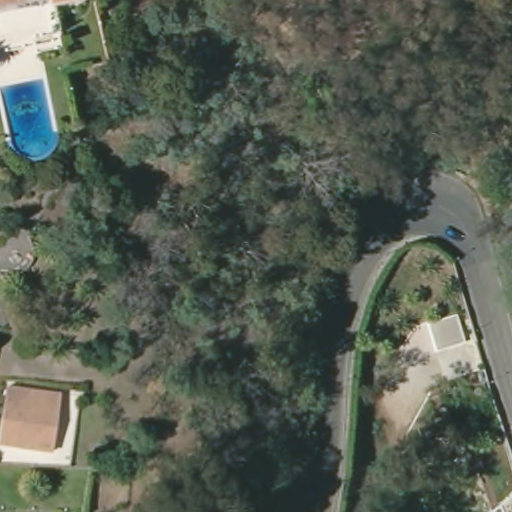pool: (1, 76, 61, 165)
